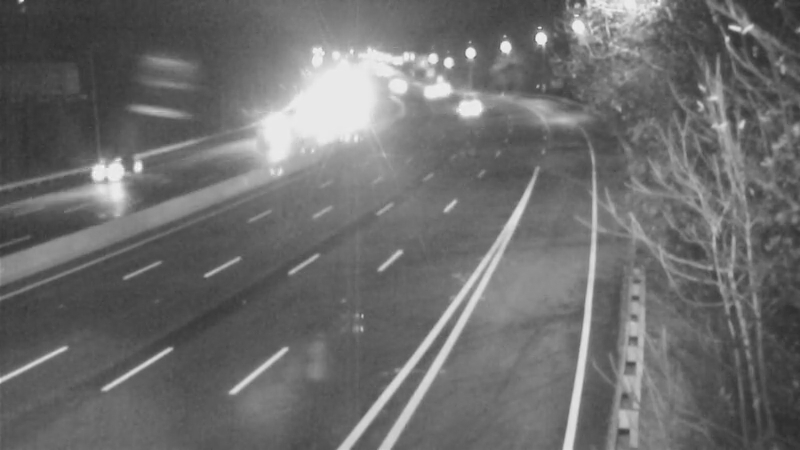vehicle: (74, 130, 154, 210), (412, 62, 462, 112), (442, 85, 492, 135), (255, 104, 305, 154)
